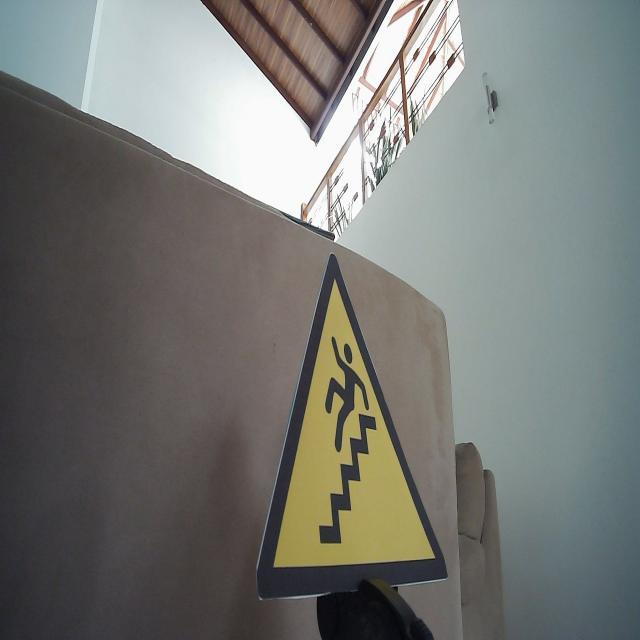stairs: (255, 252, 450, 604)
